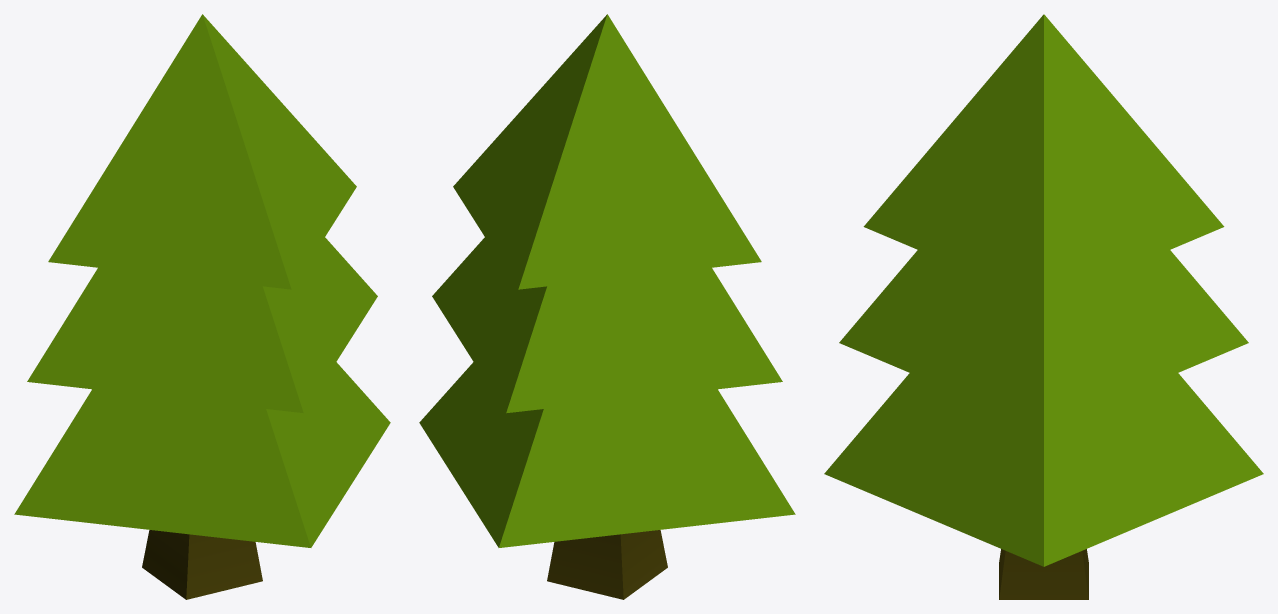
The model's file is tree1.fbx.
3 renders of one model, left to right at view 1: azimuth 30°, elevation 25°; view 2: azimuth 150°, elevation 25°; view 3: azimuth 270°, elevation 25°, orthographic.
Parts seen in each view (by area): view 1: polySurface1; view 2: polySurface1; view 3: polySurface1.
Boxes of the visible parts, <box> form: polySurface1: <box>14,14,390,599</box>; polySurface1: <box>419,14,795,599</box>; polySurface1: <box>824,14,1263,599</box>.
Bounding box in the file's own units: 2.41 × 3.43 × 2.41.
